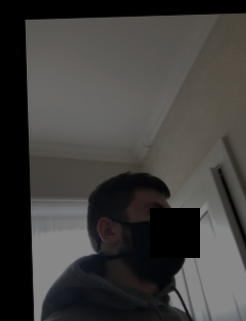with_mask: (125, 196, 187, 281)
